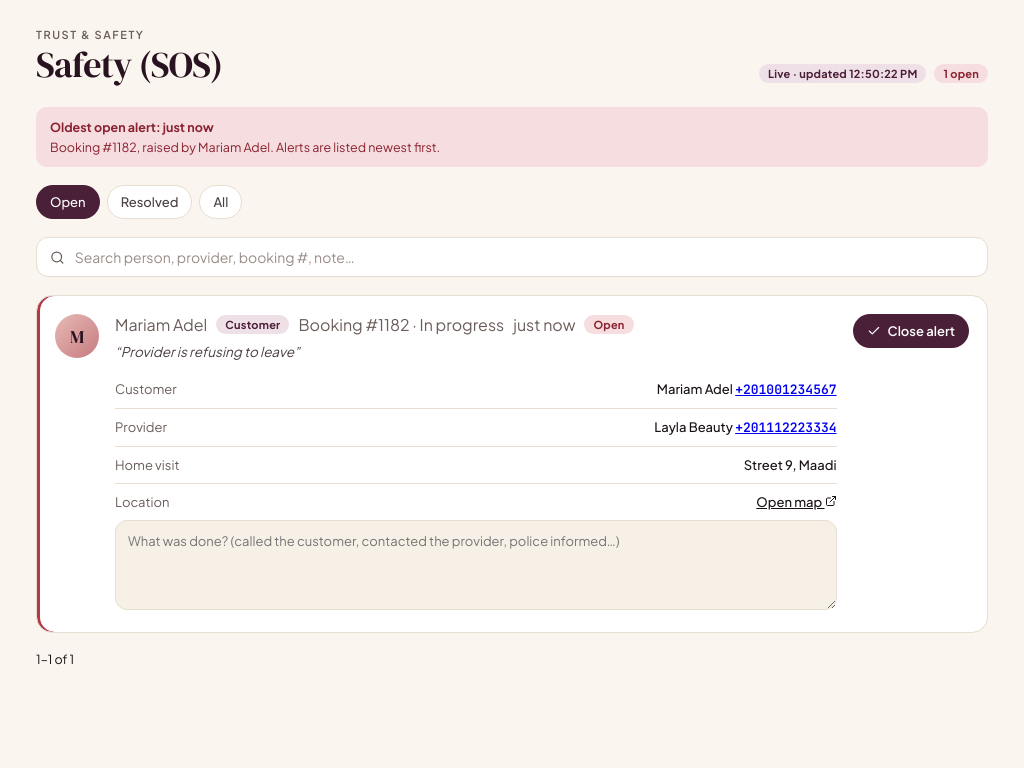
Test: <Safety> — SOS queue › closes an alert with the note and drops it from the open list
The width and height of the screenshot is (1024, 768).
Step 1. Replace the text in the text box with placeholder "What was done" with "Called the customer; she is safe." → (476, 565), box [115,520,836,610]
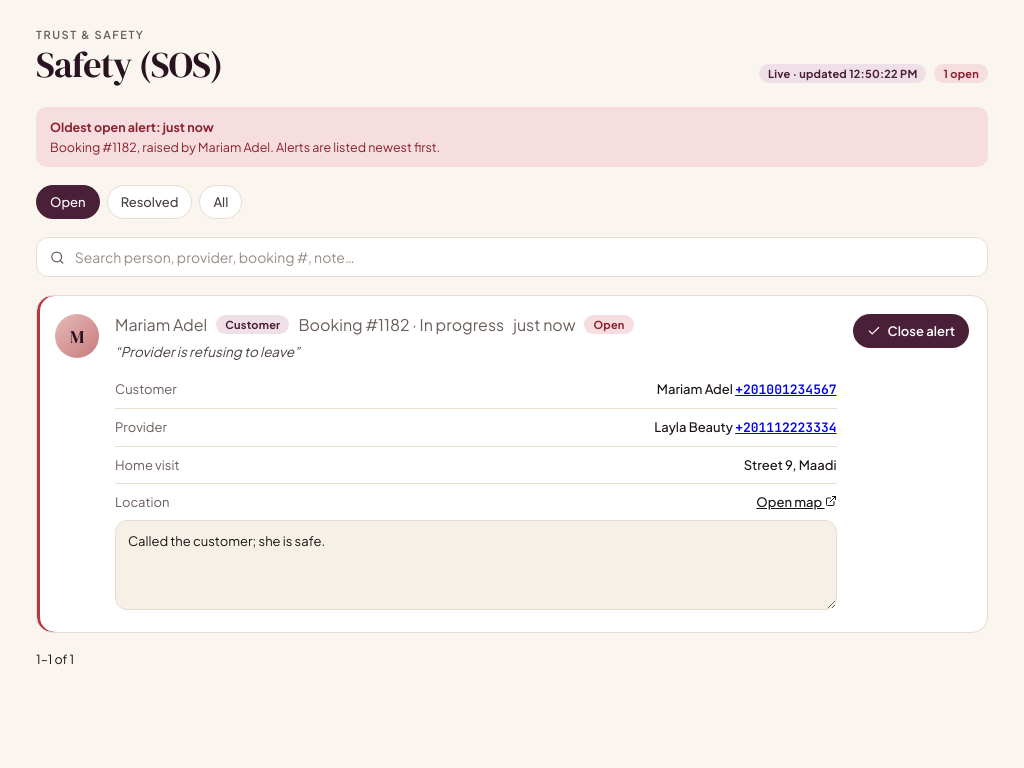
Step 2. Click the button "Close alert" → (911, 331), box [852,314,969,348]
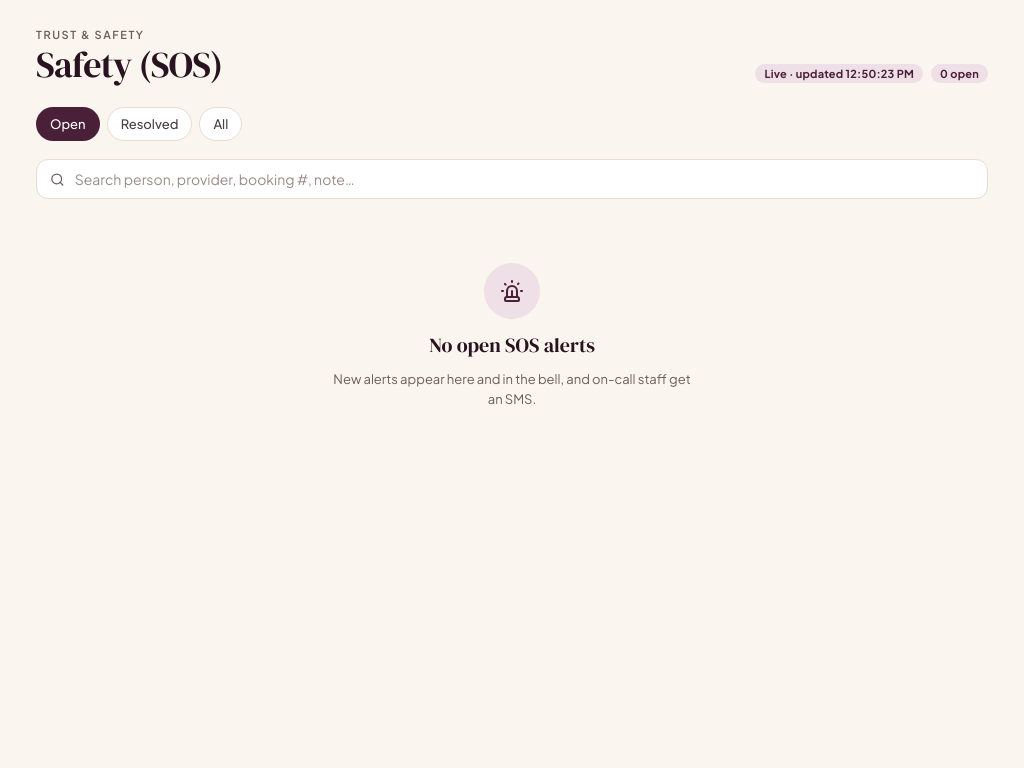
Check: the text "Provider is refusing to leave" is gone
